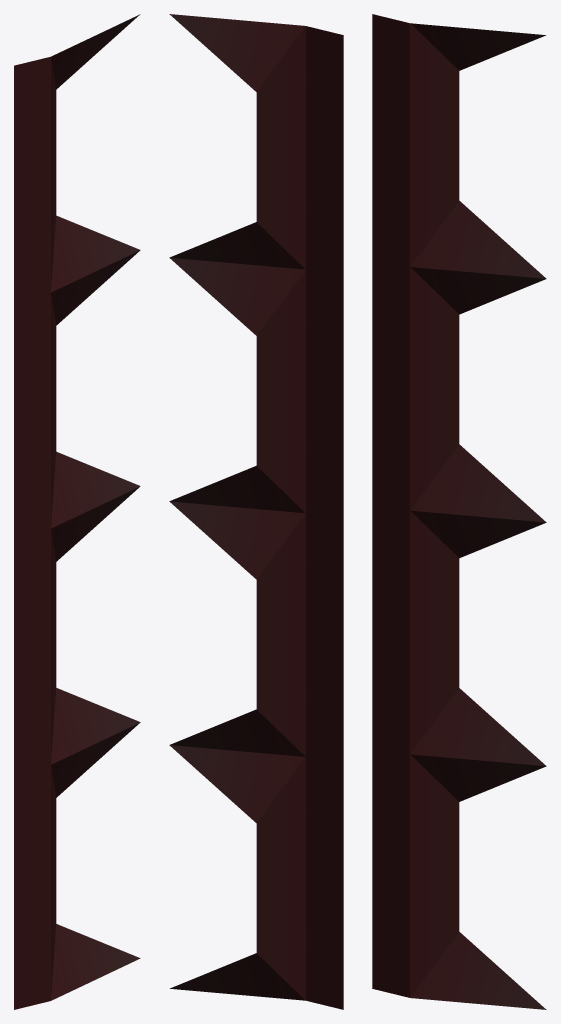
File: SM_TrimMetal_SideSolo.fbx
3 views of the same model, side by side, from view 1: azimuth 30°, elevation 25°; view 2: azimuth 150°, elevation 25°; view 3: azimuth 330°, elevation 25° (orthographic). The views are drawn at different scales.
Visible parts, largest first — view 1: SM_TrimMetal_SideSolo; view 2: SM_TrimMetal_SideSolo; view 3: SM_TrimMetal_SideSolo.
Part boxes in pixels (x1,y1,x2,y2): SM_TrimMetal_SideSolo: (14,14,140,1009); SM_TrimMetal_SideSolo: (169,14,343,1009); SM_TrimMetal_SideSolo: (372,14,546,1009).
Bounding box in the file's own units: 65.57 × 400 × 16.3.
1 material, 1 textured.
